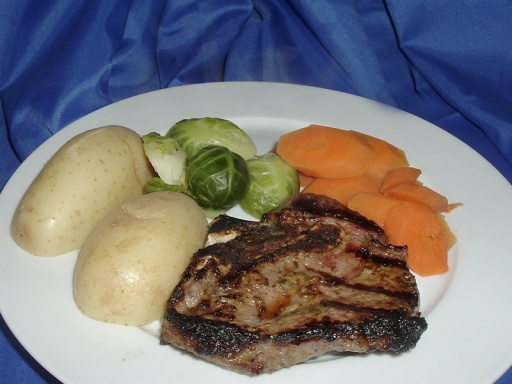background: (6, 70, 371, 226)
